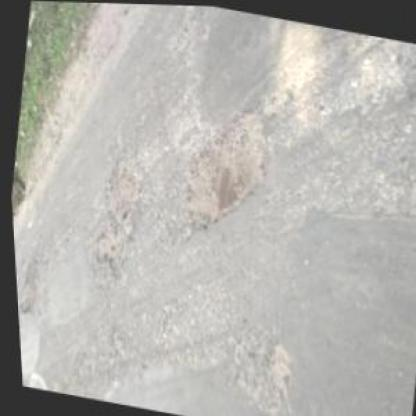pothole: (166, 90, 279, 240), (82, 139, 148, 277), (11, 251, 44, 315)
